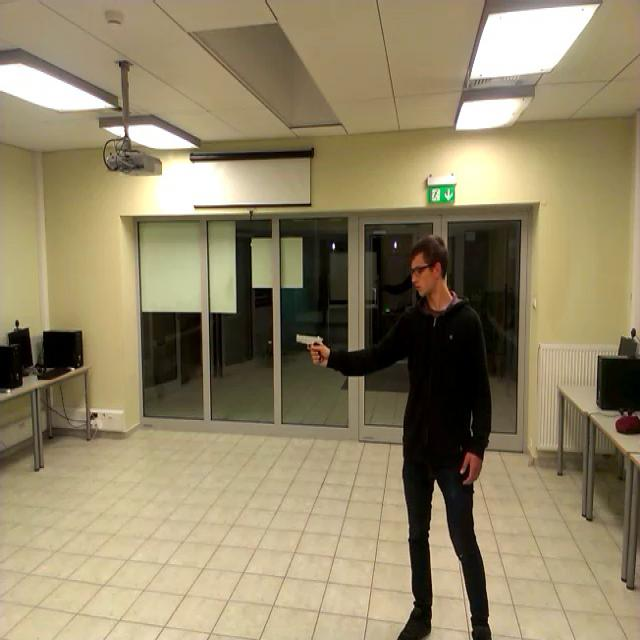handgun: (294, 332, 332, 370)
